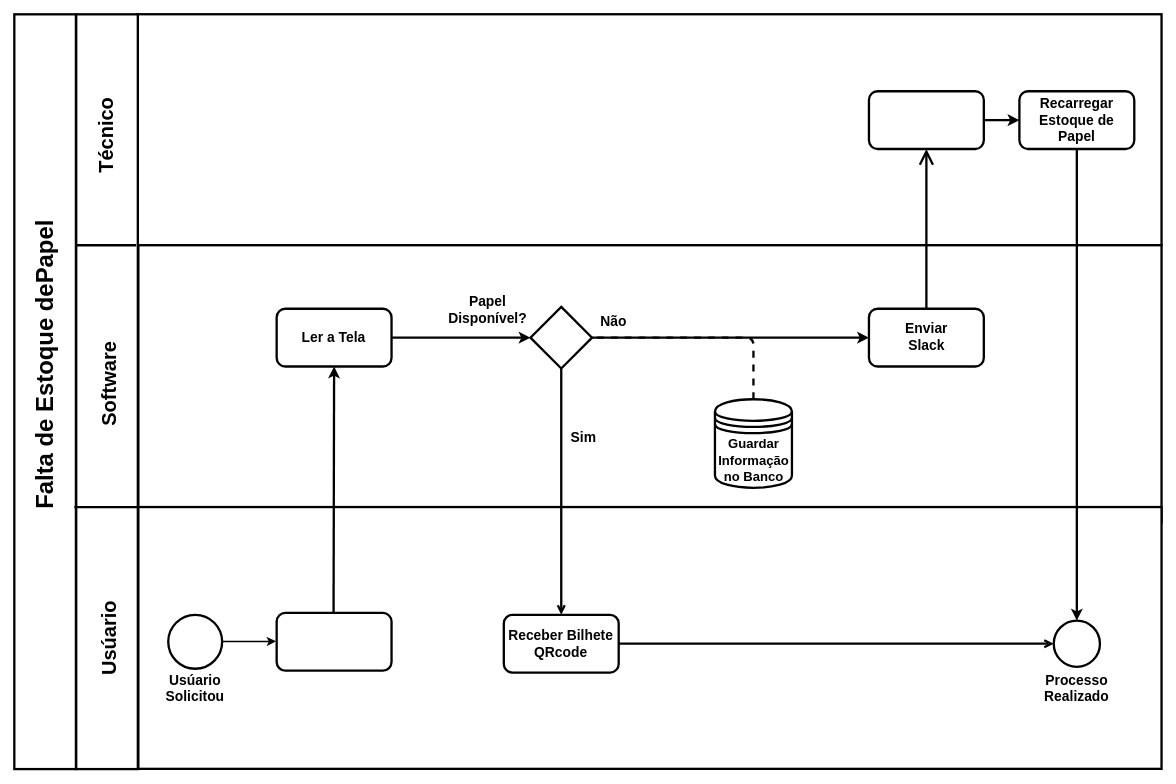
This 1176x784 diagram has some shape labels left out. The centre of each missing label's shape, as x and y in pixels:
Receber Notificação de Falta de Papel: [926,120]
Solicitar Bilhete QRcode: [333,641]
